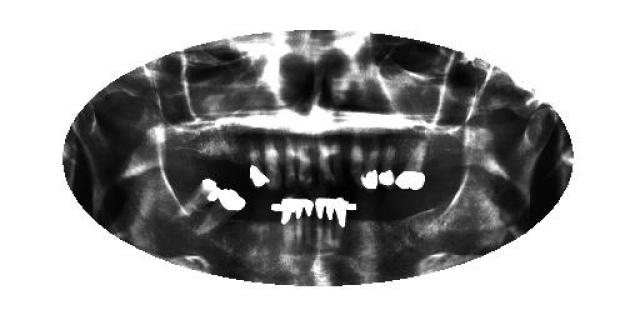Fillings: (198, 188, 246, 238), (395, 140, 430, 190), (178, 178, 220, 218), (282, 195, 298, 255), (361, 142, 381, 190), (249, 142, 269, 188), (334, 195, 348, 245), (379, 145, 396, 186), (314, 196, 325, 244), (304, 197, 314, 245), (295, 195, 303, 250), (325, 196, 334, 244)
